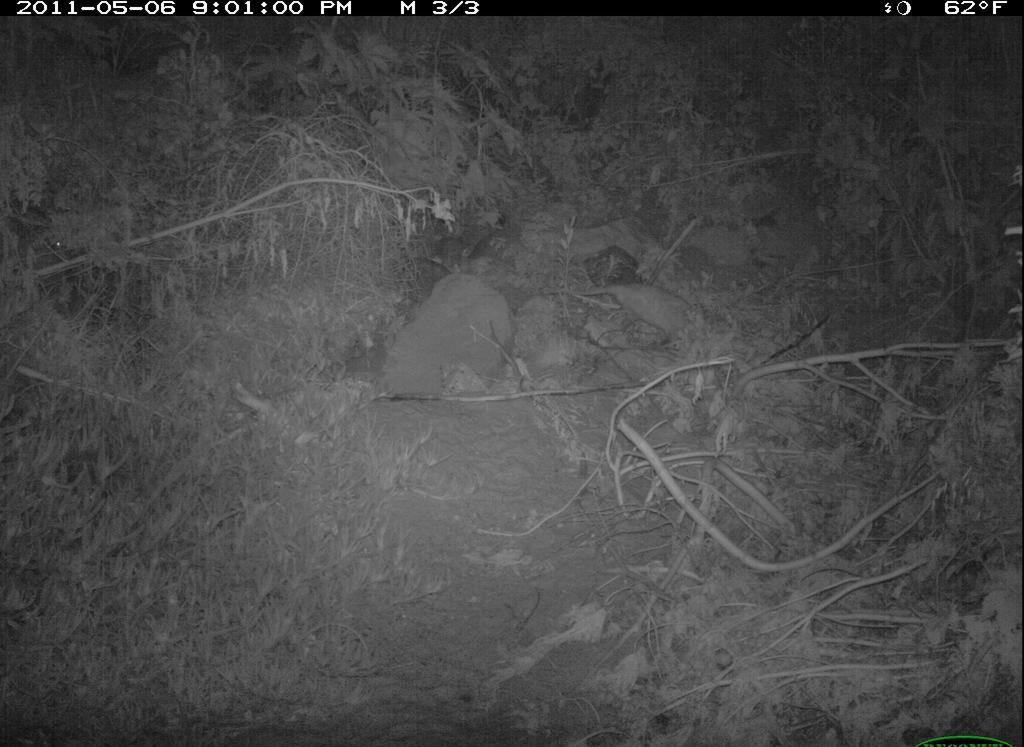opossum: (543, 280, 698, 340)
